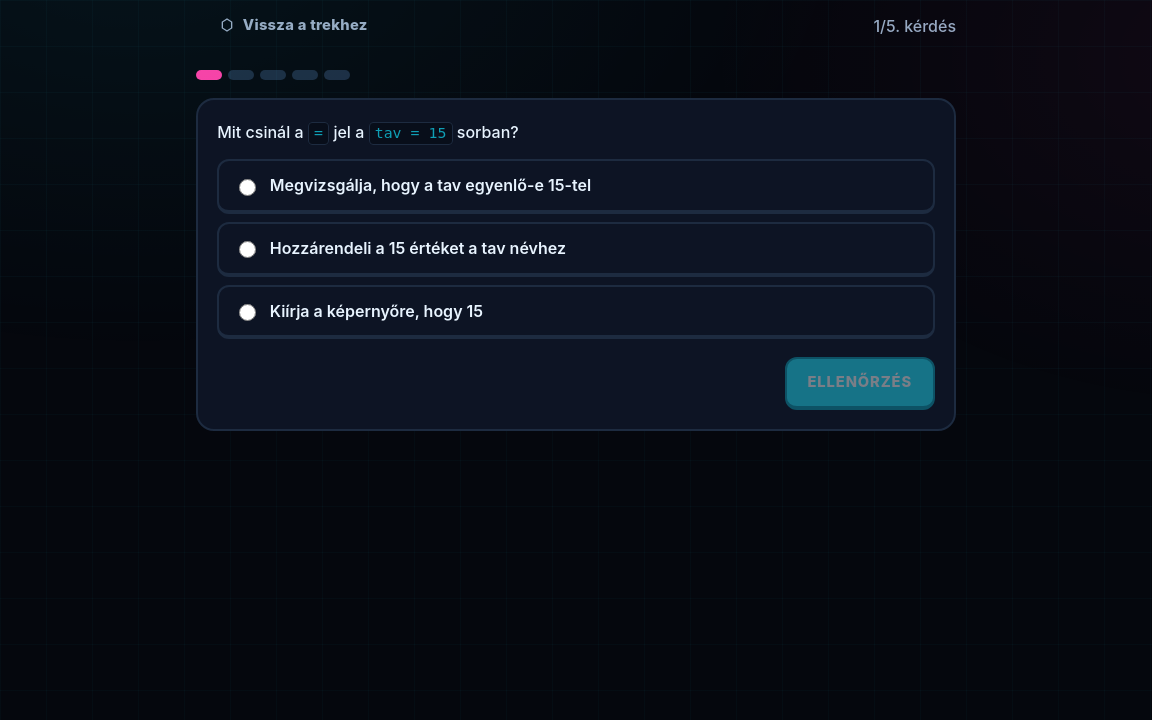
Test: quiz flow › marks a right answer right and a wrong answer wrong
Click the radio button labelled "Hozzárendeli a 15 értéket a tav névhez": (247, 250) x1=239 y1=241 x2=256 y2=258
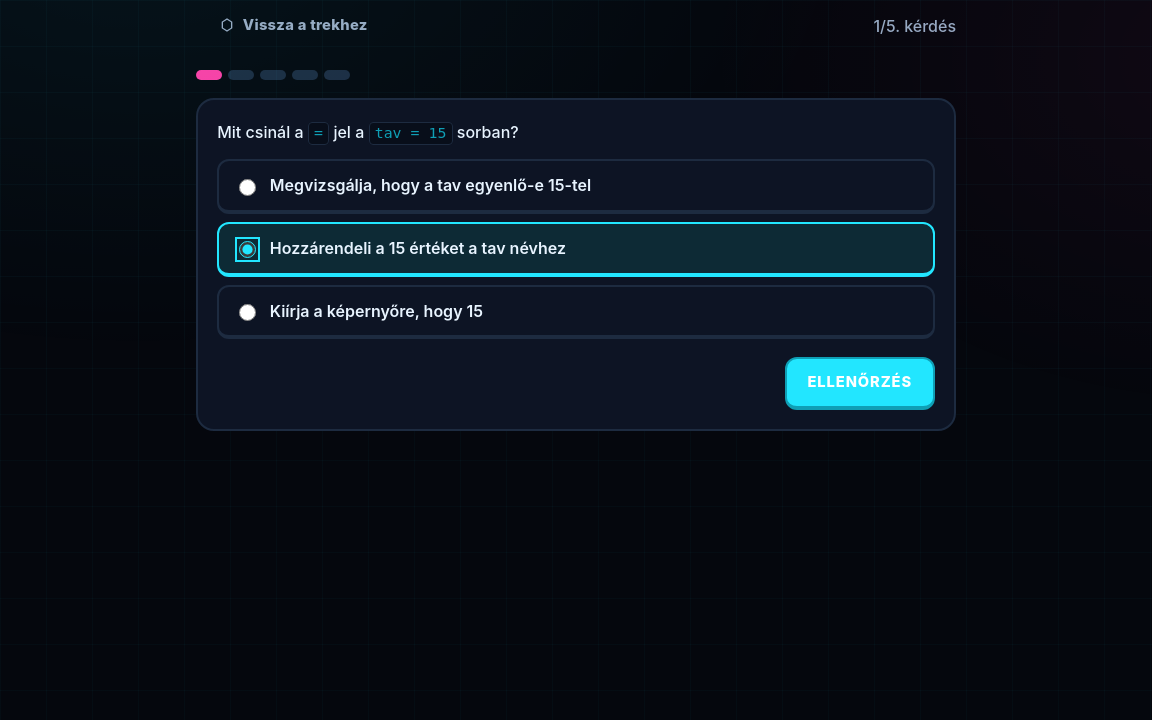
Click the button "Ellenőrzés": (860, 383) x1=785 y1=357 x2=935 y2=410
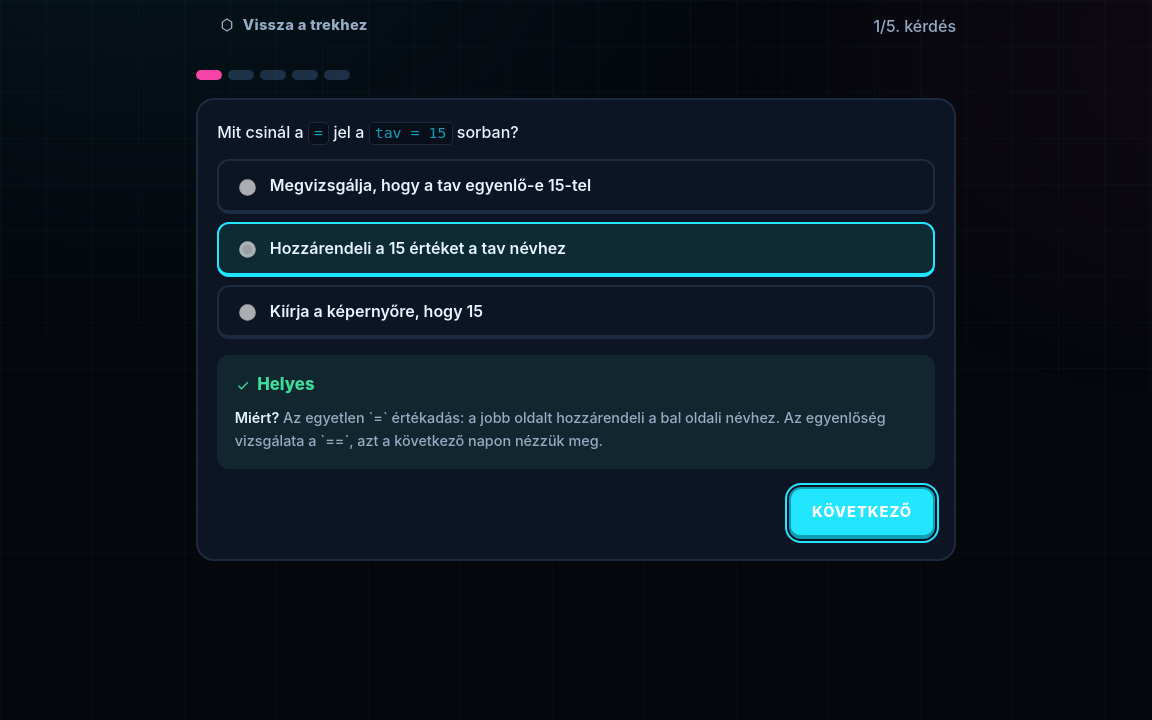
Expected: the text "Helyes" is shown, x1=235 y1=374 x2=315 y2=394
